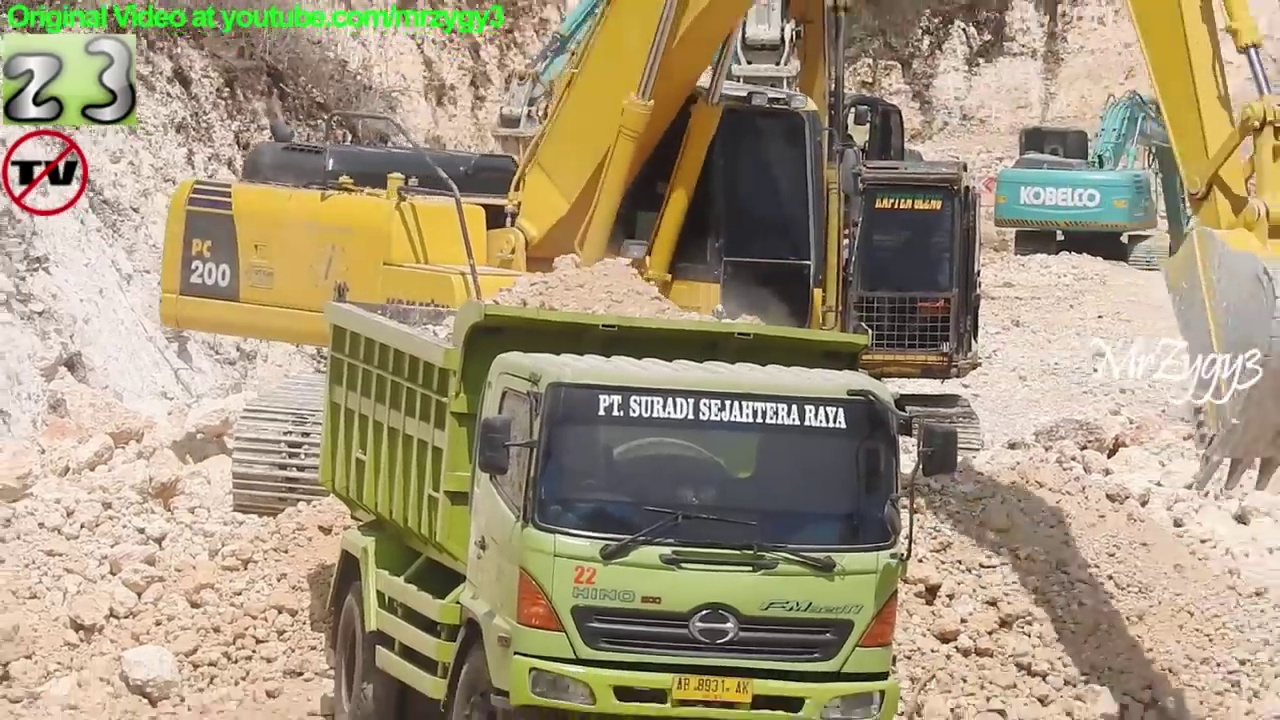excavator: (154, 1, 1280, 533), (410, 2, 999, 499), (989, 82, 1206, 275)
truck: (320, 292, 962, 720)
